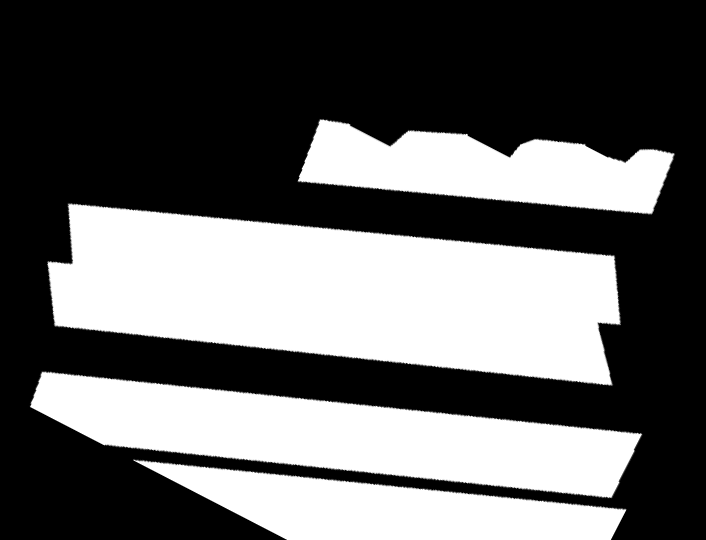parkingspot: (47, 204, 621, 386), (30, 372, 642, 498), (134, 460, 626, 540), (298, 119, 674, 214)
